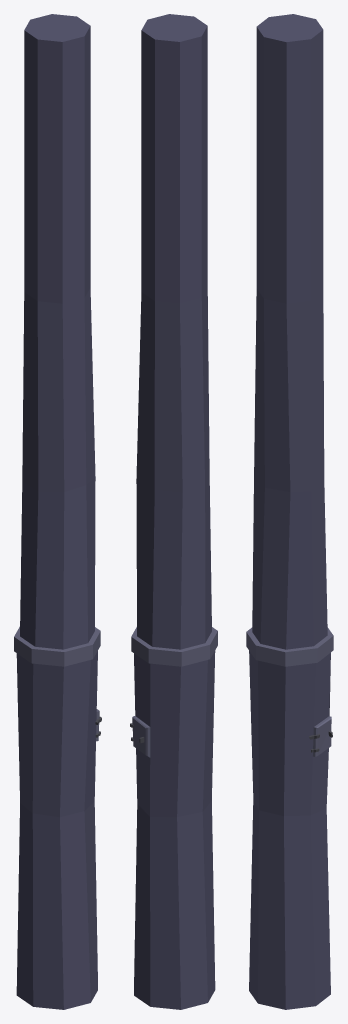
The model's file is pillar.fbx.
The picture shows the model from 3 angles, left to right: view 1: azimuth 30°, elevation 25°; view 2: azimuth 210°, elevation 25°; view 3: azimuth 330°, elevation 25°; orthographic projection.
Parts seen in each view (by area): view 1: Cylinder; view 2: Cylinder; view 3: Cylinder.
Part boxes in pixels (<box>): Cylinder: <box>14,14,101,1009</box>; Cylinder: <box>130,14,217,1009</box>; Cylinder: <box>246,14,333,1009</box>.
Size of the model in its own units: 67.76 by 843 by 65.02.
